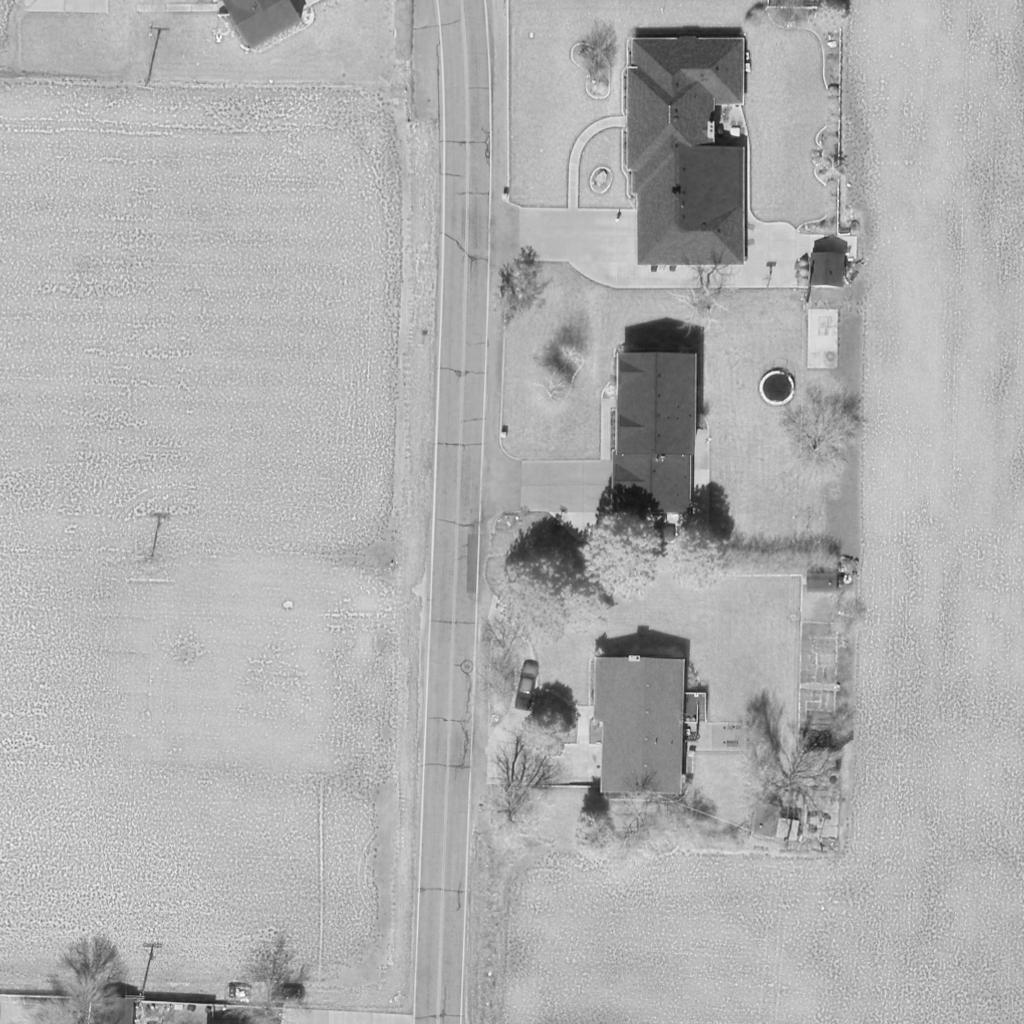vehicle: (622, 524, 678, 544), (515, 663, 537, 711)
